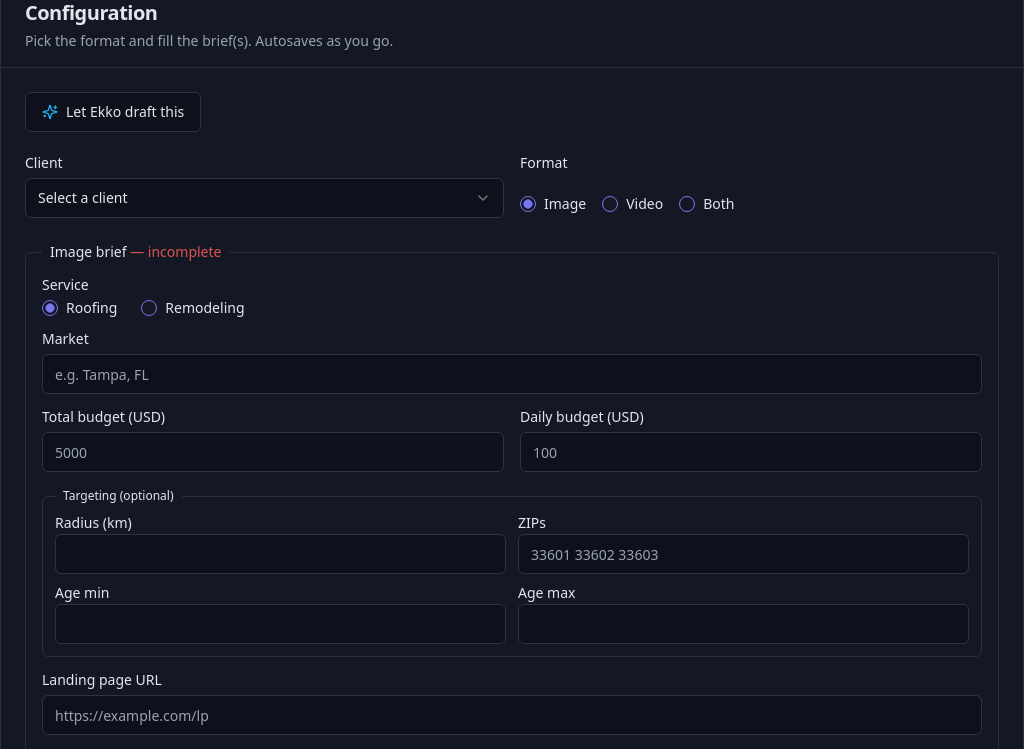
it: StageConfiguration - autosave indicator › renders the 'Saving draft…' indicator and flips to Saved
The width and height of the screenshot is (1024, 749).
Click the radio button named "Both" next to "Both".
click(687, 204)  # box [679,196,695,212]
Wait 1100 ms
(page scrolled)
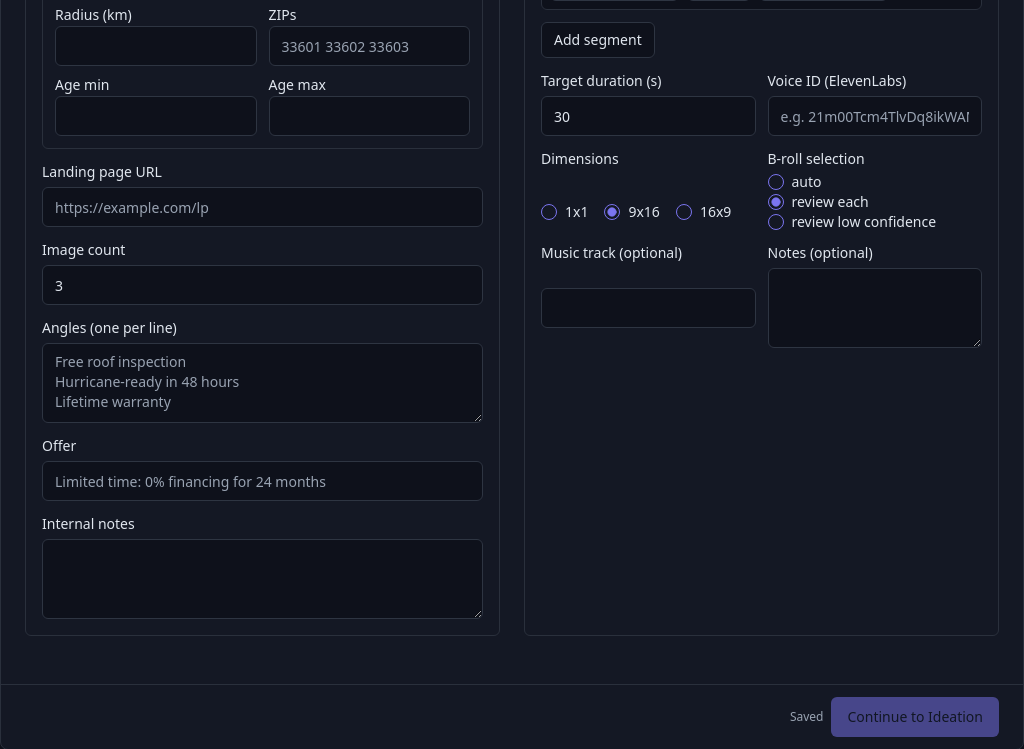
Expected: the text "Saved" is shown, [790,709,824,725]
